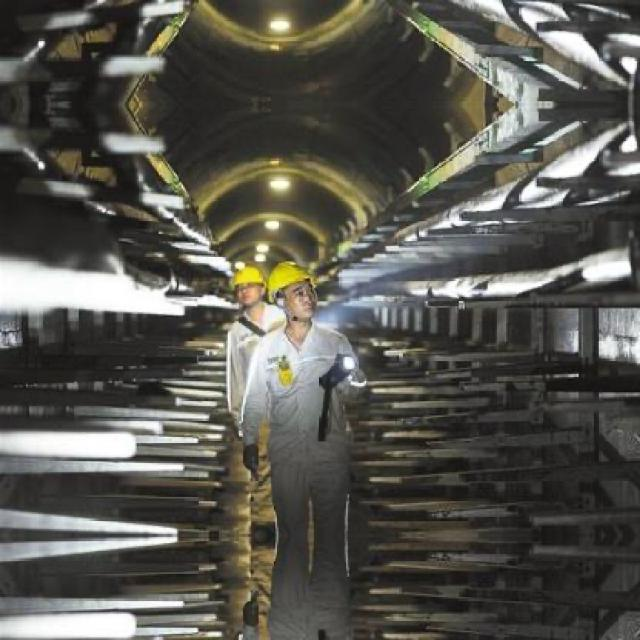con casco: (249, 276, 349, 340), (215, 258, 274, 330)
